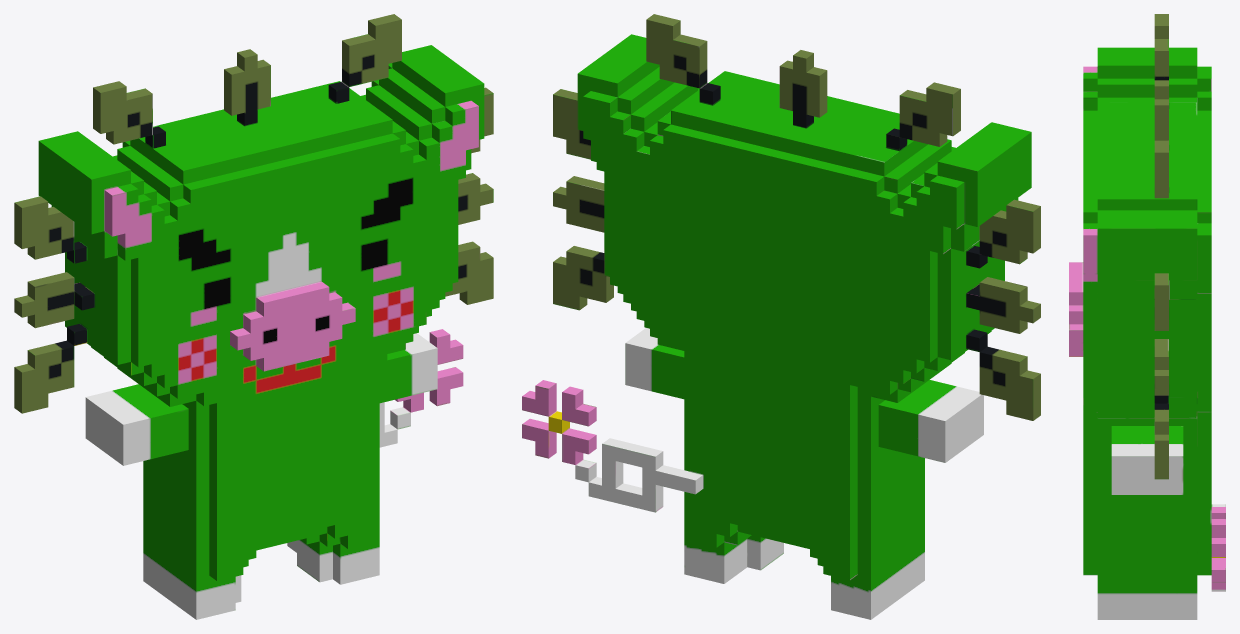
File: guribu.glb
The picture shows the model from 3 angles, left to right: view 1: azimuth 30°, elevation 25°; view 2: azimuth 150°, elevation 25°; view 3: azimuth 270°, elevation 25°; orthographic projection. The views are drawn at different scales.
Parts seen in each view (by area): view 1: guribu; view 2: guribu; view 3: guribu.
Boxes of the visible parts, x1,y1,x2,y2 form: guribu: (14,14,493,619); guribu: (522,14,1040,619); guribu: (1069,14,1225,619).
Bounding box in the file's own units: 0.72 × 0.76 × 0.22.
Materials: 1 (1 with a texture image).
